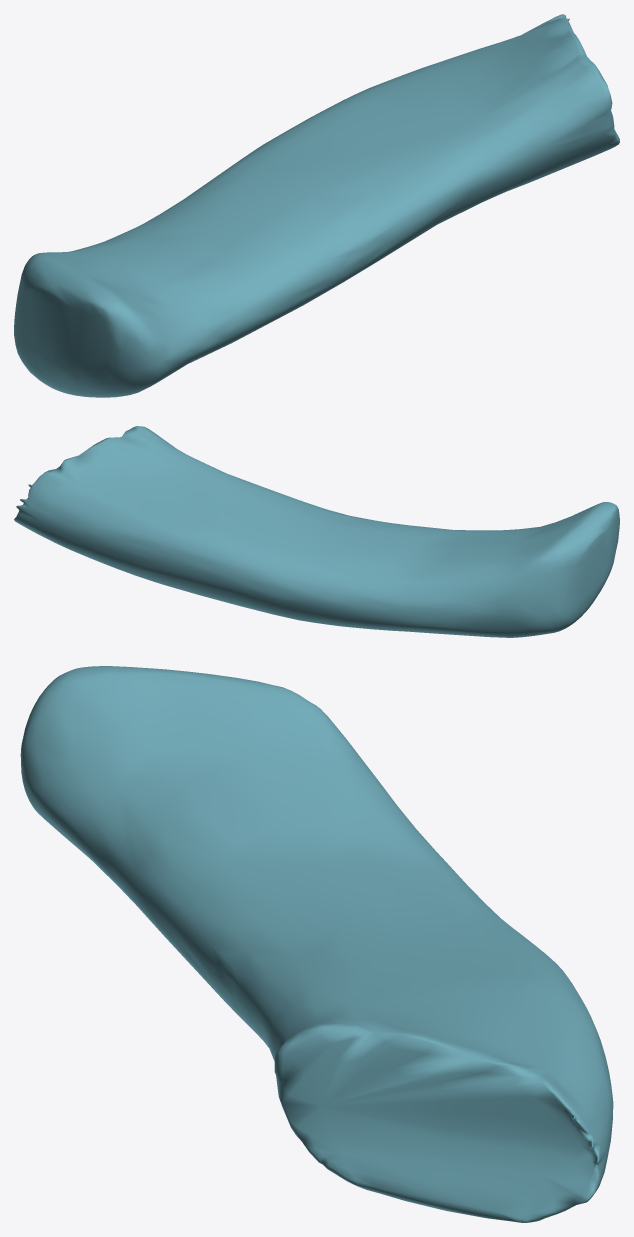
3 views of the same model, one above another, from view 1: azimuth 30°, elevation 25°; view 2: azimuth 150°, elevation 25°; view 3: azimuth 270°, elevation 25° (orthographic). The views are drawn at different scales.
Parts seen in each view (by area): view 1: 左侧第四肋软骨; view 2: 左侧第四肋软骨; view 3: 左侧第四肋软骨.
Part boxes in pixels (left/top/right/bottom): 左侧第四肋软骨: left=14, top=14, right=619, bottom=397; 左侧第四肋软骨: left=14, top=426, right=619, bottom=637; 左侧第四肋软骨: left=20, top=666, right=613, bottom=1222.
Bounding box in the file's own units: 0.0802 × 0.0185 × 0.0427.
